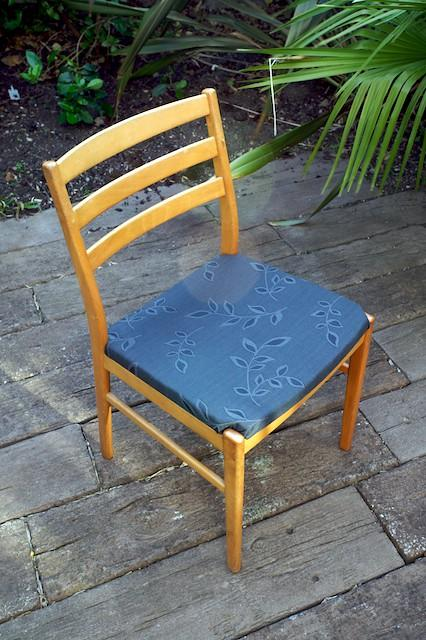chair: (42, 87, 376, 574)
